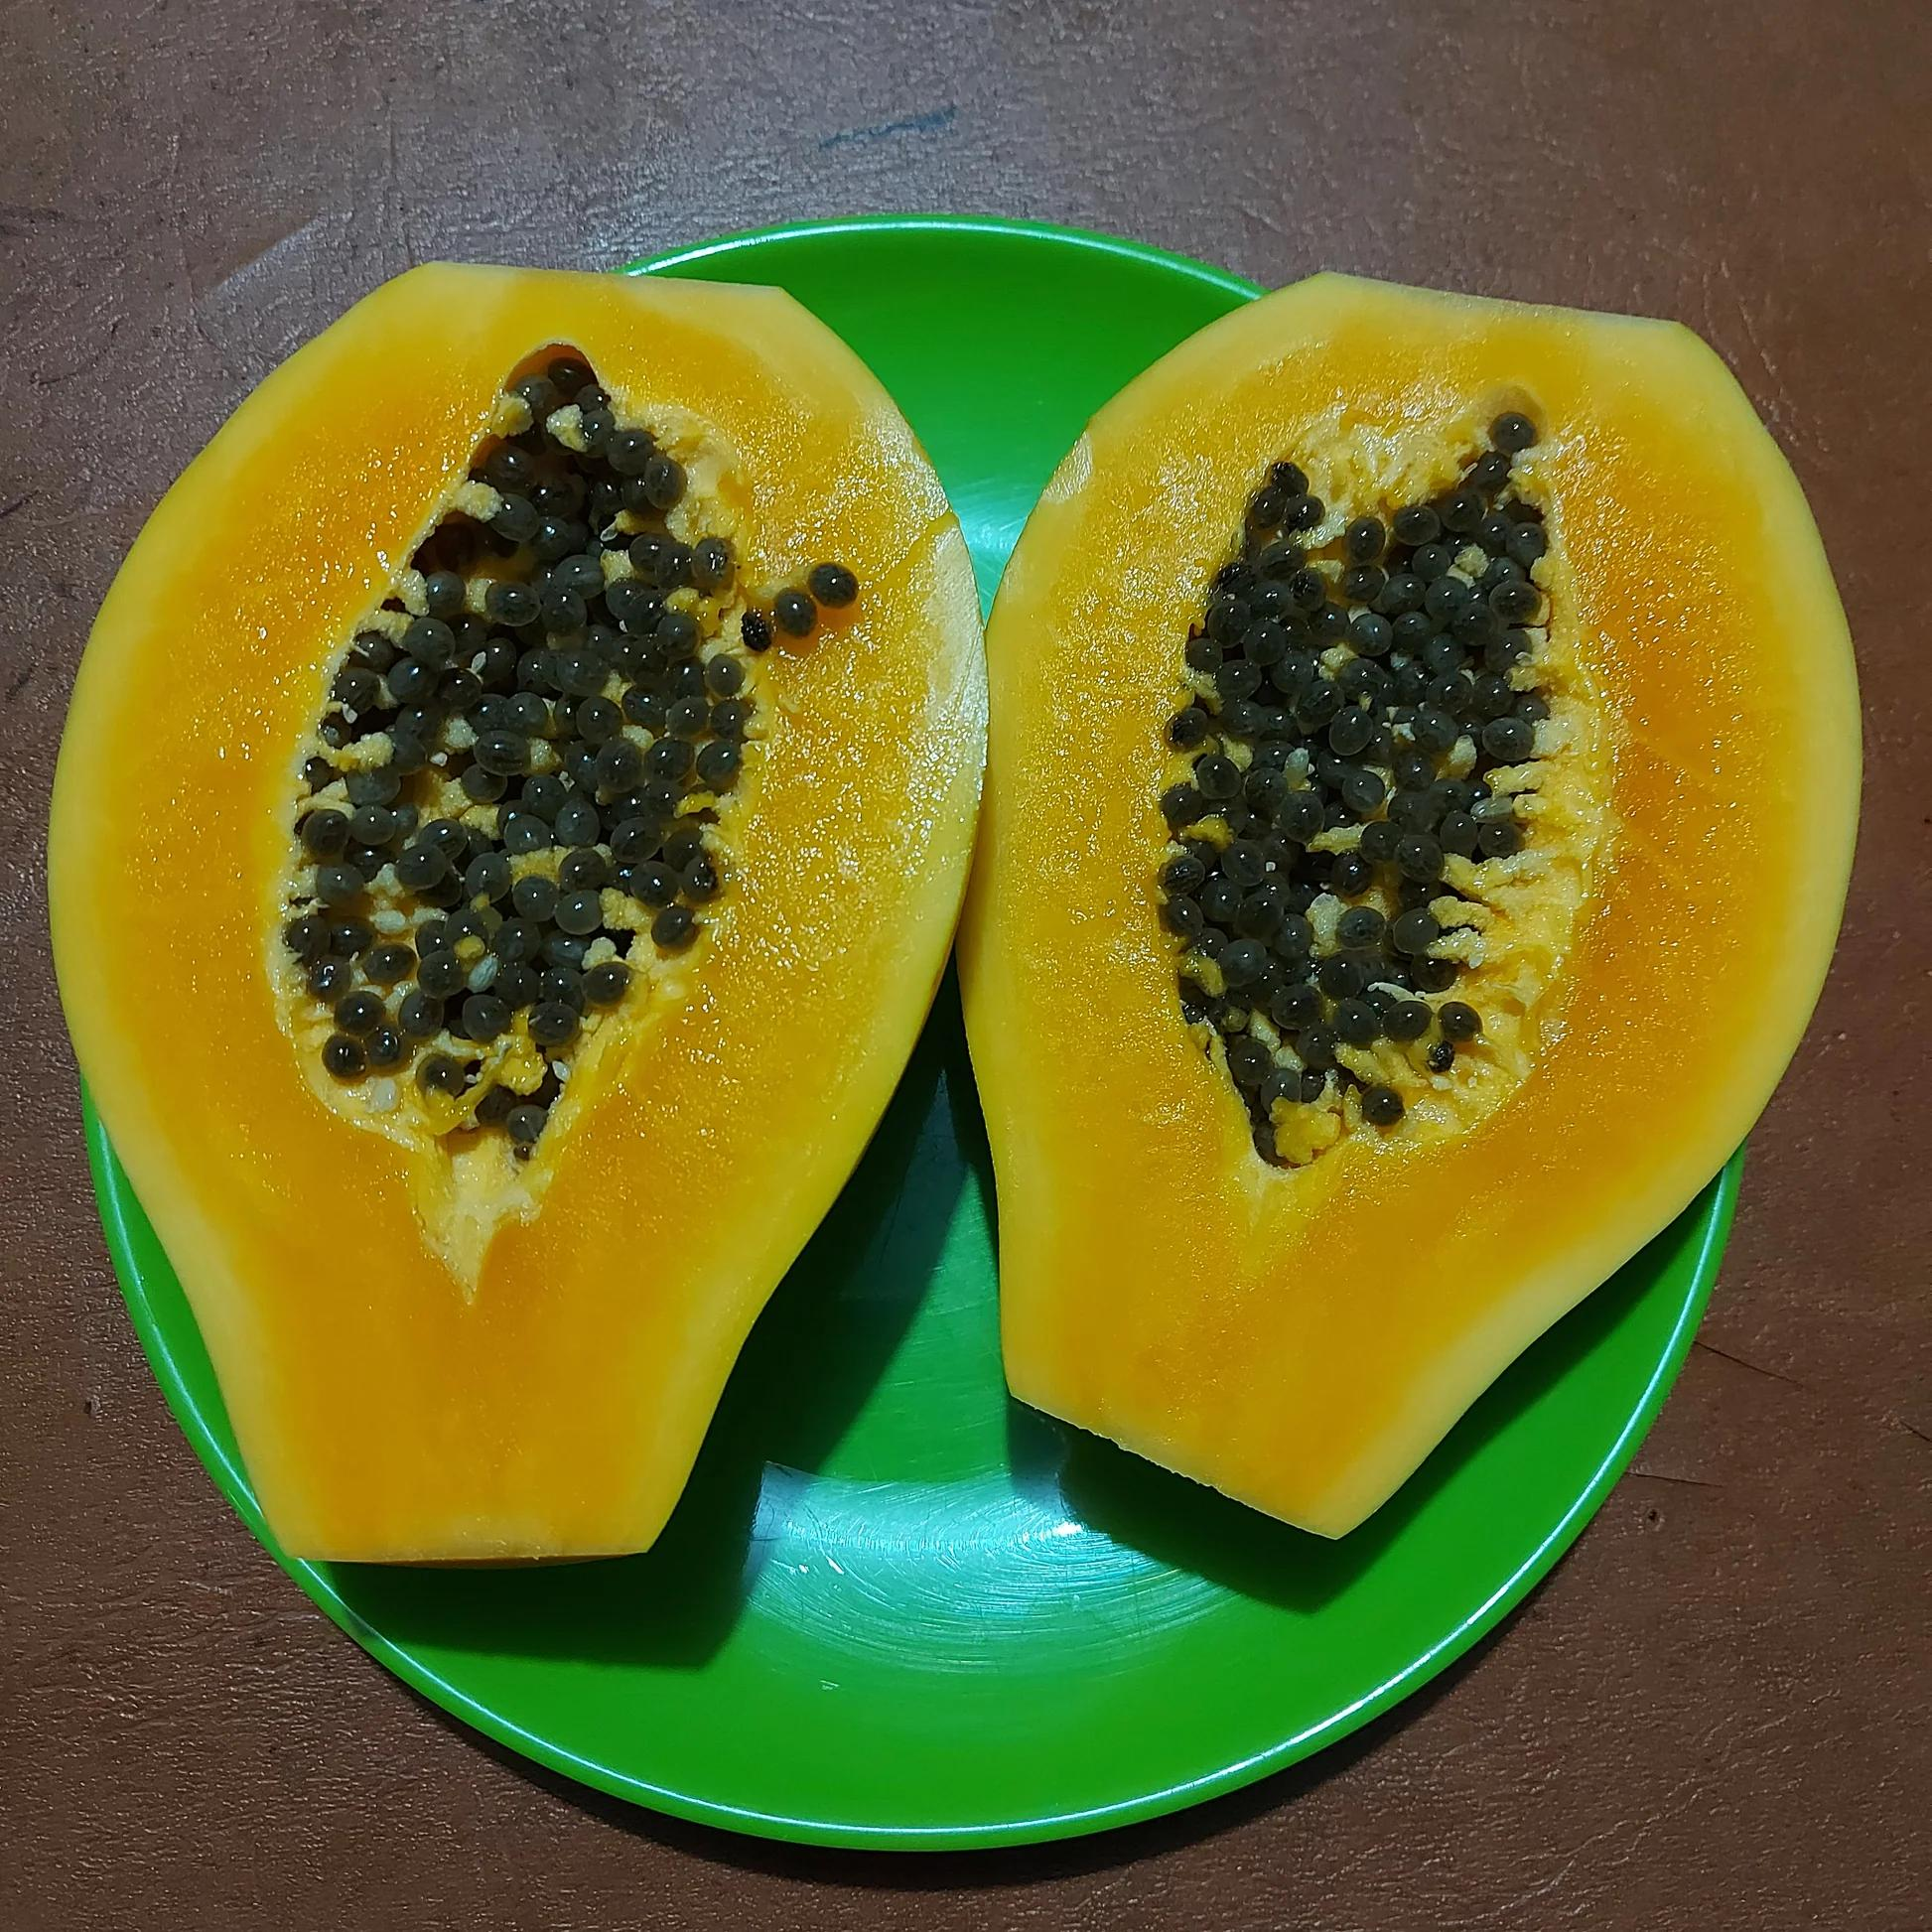papaya: (23, 219, 1001, 1621), (932, 226, 1895, 1605)
